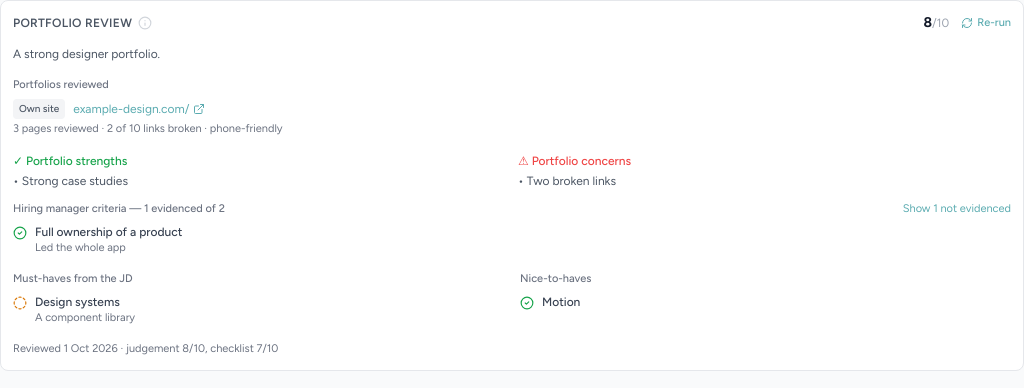
Test: PortfolioReviewCard — designer reviews are unchanged › uses the designer wording in the tooltip
Click the button named "More info" at (145, 23), box 138,16 -> 152,30
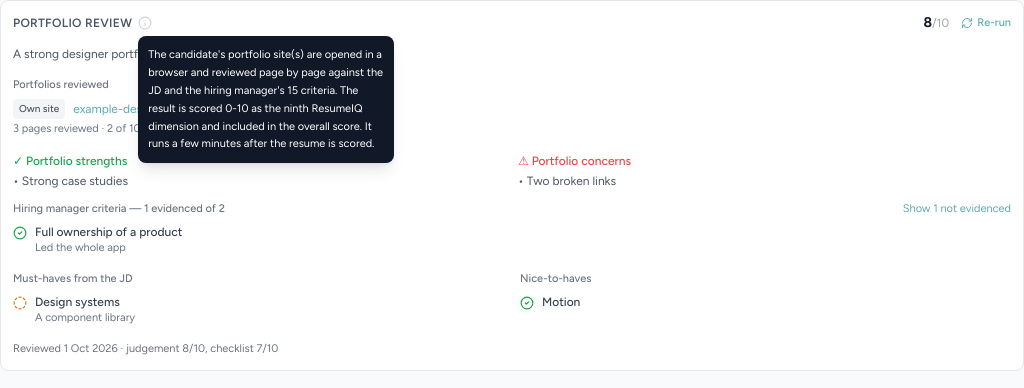
Expected: the text "reviewed page by page against the JD and the hiring manager's 15 criteria" is shown, 148,48 -> 383,150
